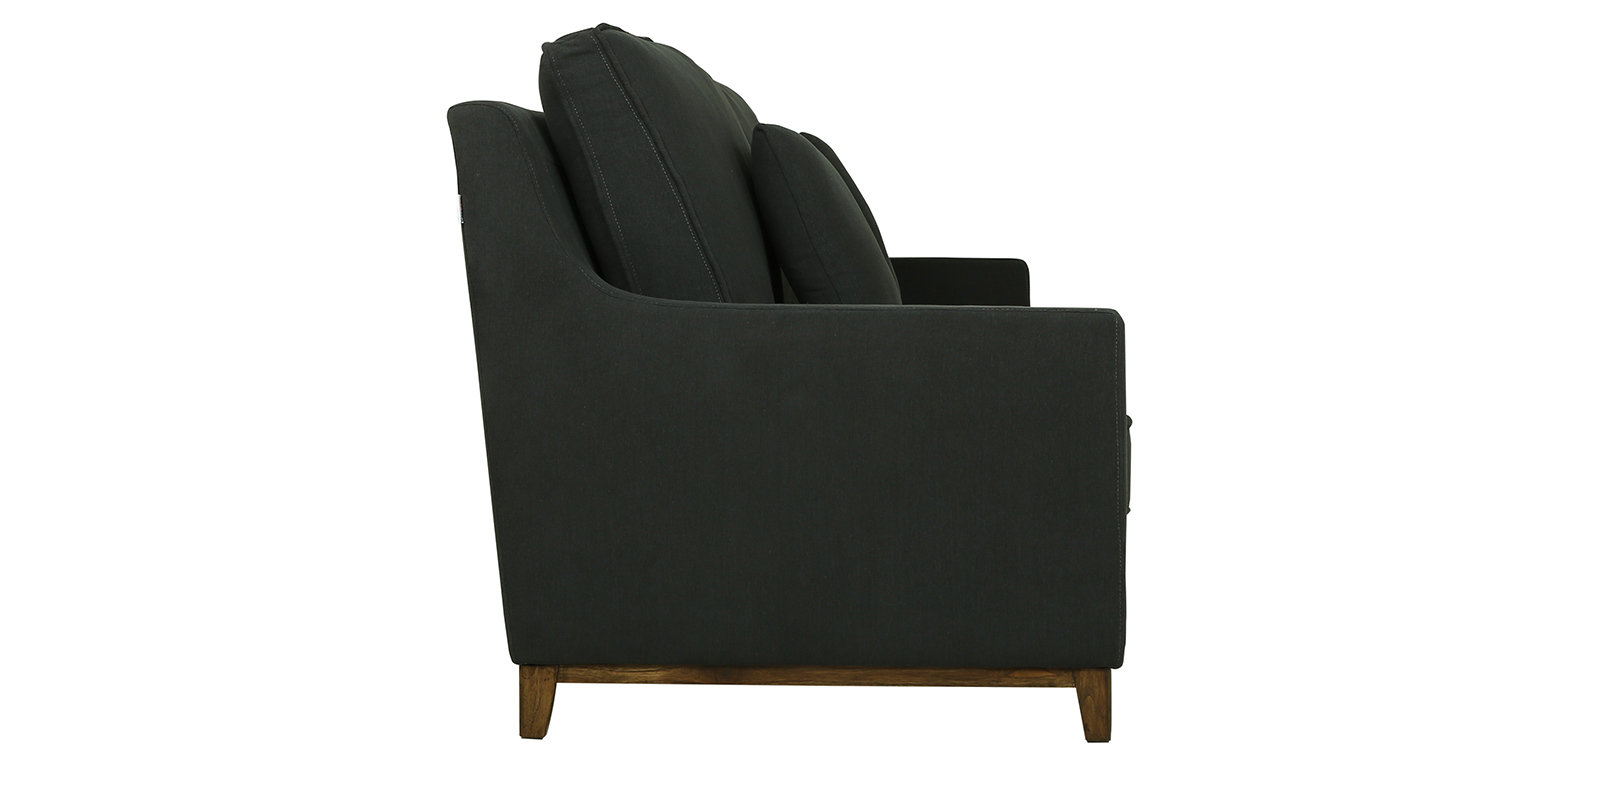Diego Three Seater Sofa in Charcoal Grey Colour by CasaCraft: (439, 14, 1141, 762)
